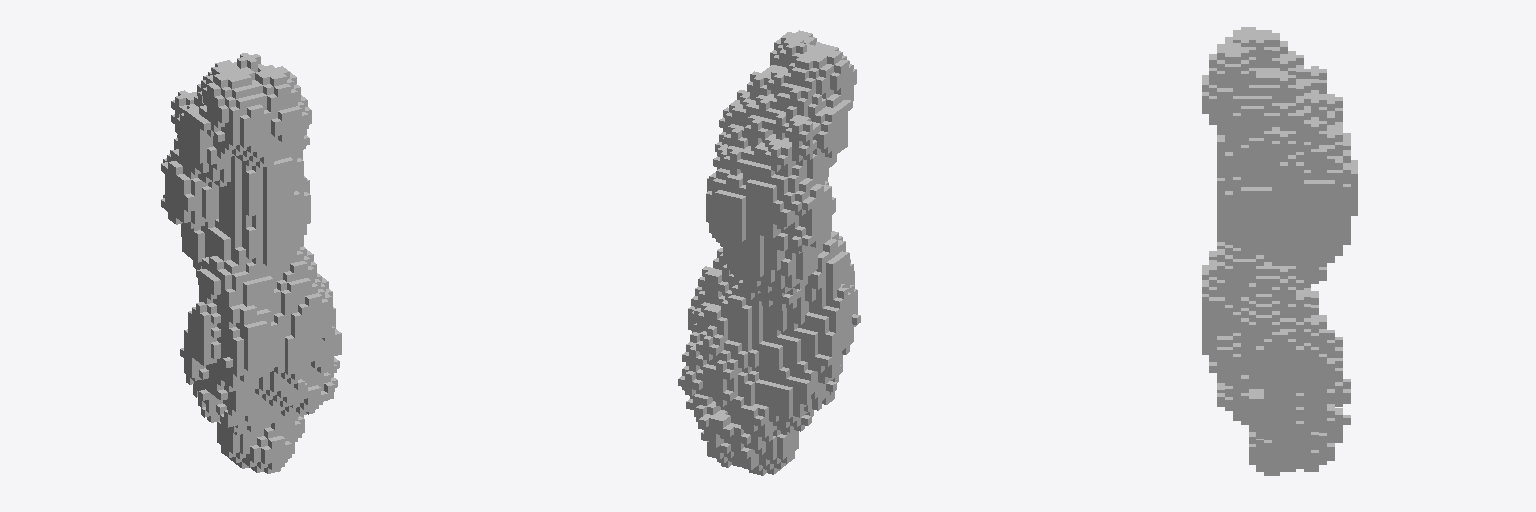
The model's file is sweet potato.obj.
3 views of the same model, side by side, from view 1: azimuth 30°, elevation 25°; view 2: azimuth 150°, elevation 25°; view 3: azimuth 270°, elevation 25° (orthographic).
Parts seen in each view (by area): view 1: object 1; view 2: object 1; view 3: object 1.
Part boxes in pixels (x1,y1,x2,y2): object 1: (161,53,341,473); object 1: (678,30,860,475); object 1: (1202,27,1357,475).
Size of the model in its own units: 2 by 5.9 by 2.